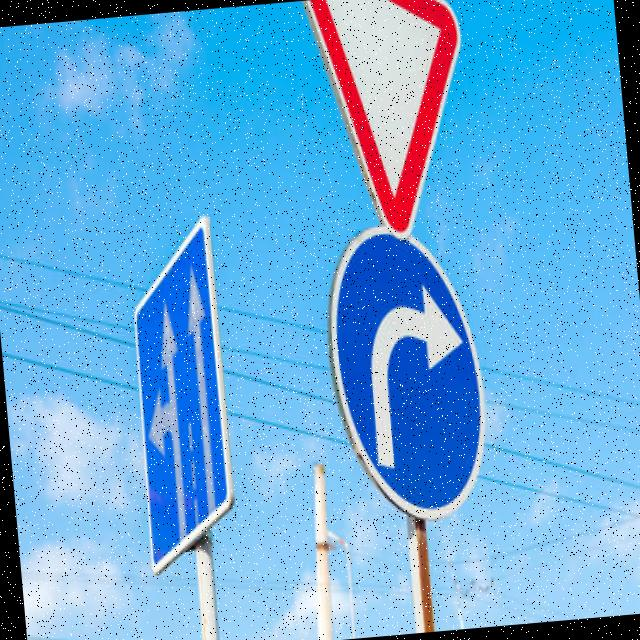compulsory_keep_right: (312, 207, 503, 530)
give_way: (265, 0, 492, 247)
